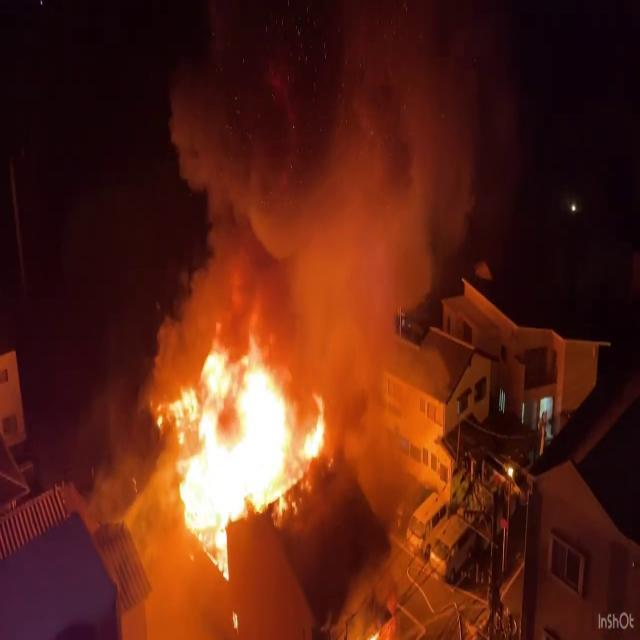Fire: (151, 319, 331, 565)
Smoke: (154, 23, 472, 390)
